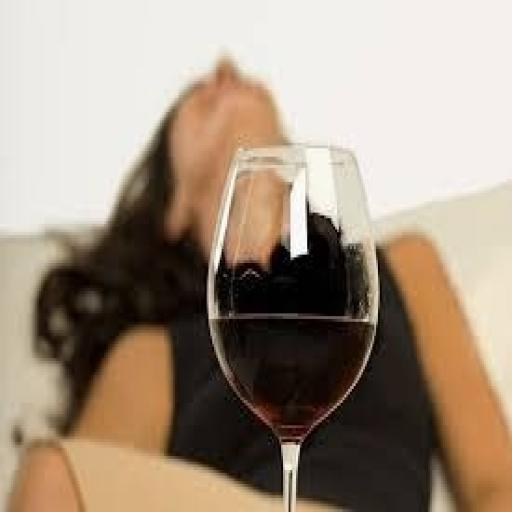drinking: (205, 140, 380, 509)
